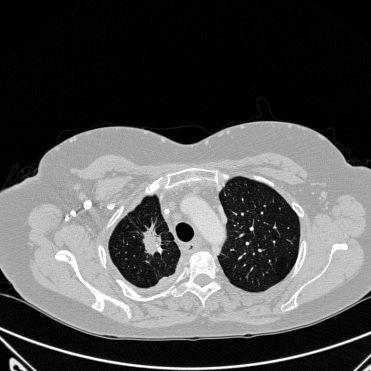nodule: (143, 233, 163, 253)
